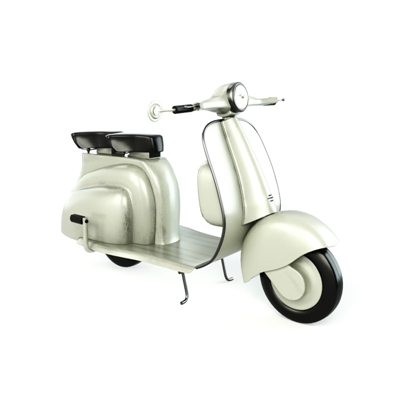MNV: (59, 82, 344, 323)
